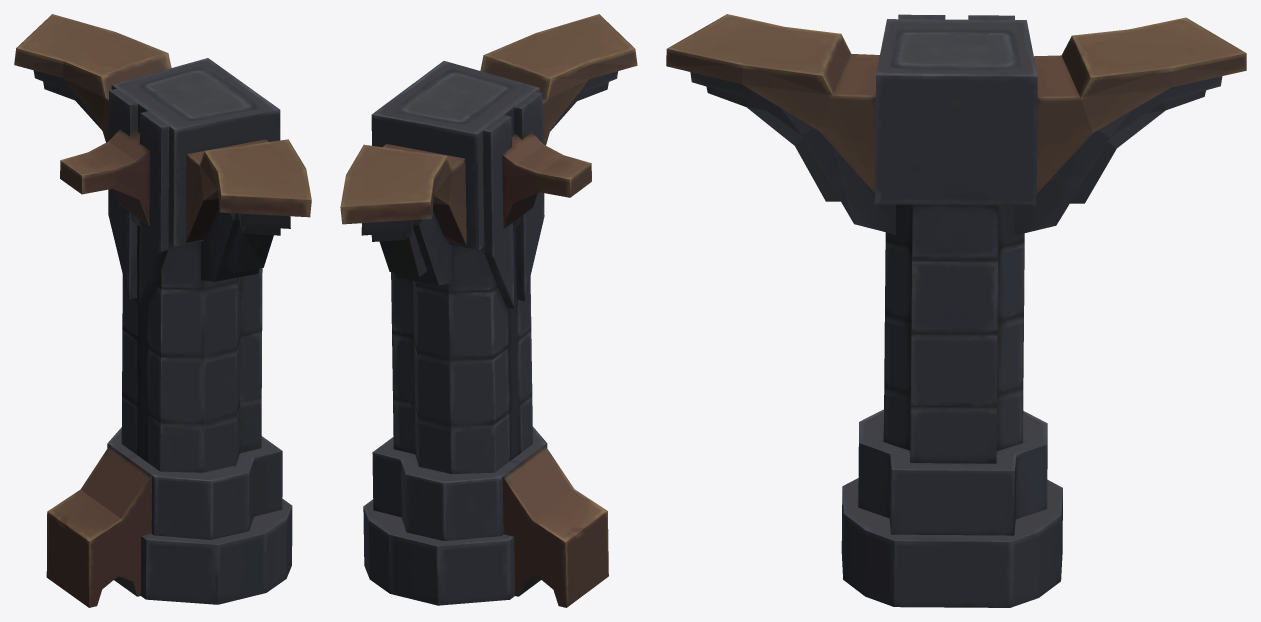
Rendered from cs_yanjiangchengbao_huanzhu_001.FBX.
3 renders of one model, left to right at view 1: azimuth 30°, elevation 25°; view 2: azimuth 150°, elevation 25°; view 3: azimuth 270°, elevation 25°, orthographic. The views are drawn at different scales.
Visible parts, largest first — view 1: cs_yanjiangchengbao_huanzhu_001; view 2: cs_yanjiangchengbao_huanzhu_001; view 3: cs_yanjiangchengbao_huanzhu_001.
Boxes of the visible parts, bbox=[...] form: cs_yanjiangchengbao_huanzhu_001: bbox=[14, 14, 311, 607]; cs_yanjiangchengbao_huanzhu_001: bbox=[340, 14, 637, 607]; cs_yanjiangchengbao_huanzhu_001: bbox=[666, 14, 1246, 607].
Bounding box in the file's own units: 4.7 × 10.65 × 10.59.
